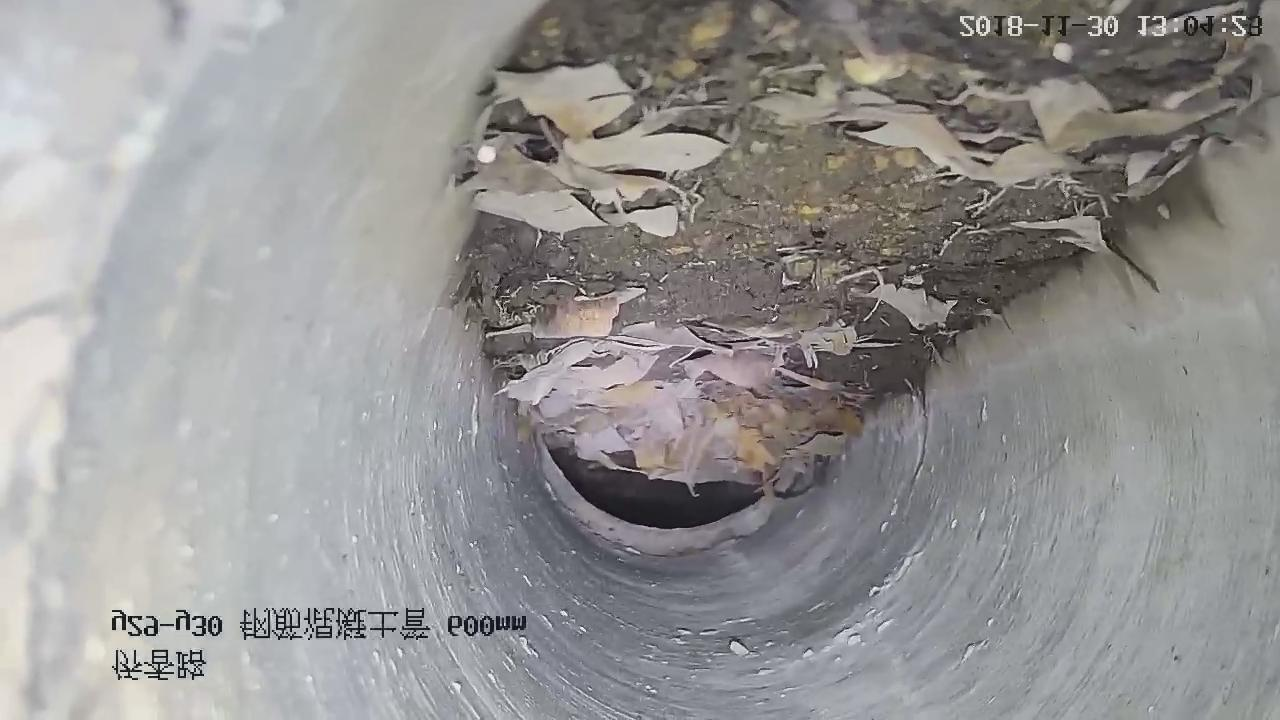CJ: (453, 1, 1268, 495)
CKTJ: (540, 451, 784, 556)
